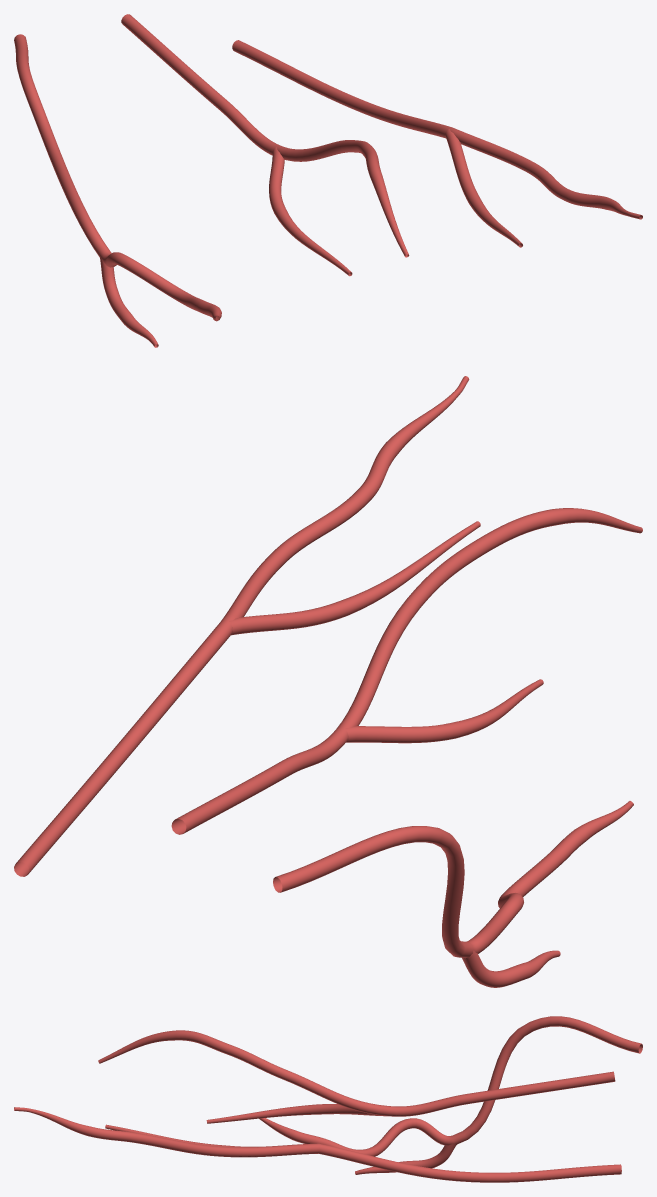
3 renders of one model, top to bottom at view 1: azimuth 30°, elevation 25°; view 2: azimuth 150°, elevation 25°; view 3: azimuth 270°, elevation 25°, orthographic. The views are drawn at different scales.
Parts seen in each view (by area): view 1: 左侧近侧外侧豆纹动脉; view 2: 左侧近侧外侧豆纹动脉; view 3: 左侧近侧外侧豆纹动脉.
Boxes of the visible parts, x1,y1,x2,y2 form: 左侧近侧外侧豆纹动脉: (14,14,642,347); 左侧近侧外侧豆纹动脉: (14,376,642,987); 左侧近侧外侧豆纹动脉: (14,1016,642,1182).
Bounding box in the file's own units: 0.00864 × 0.006 × 0.018.
